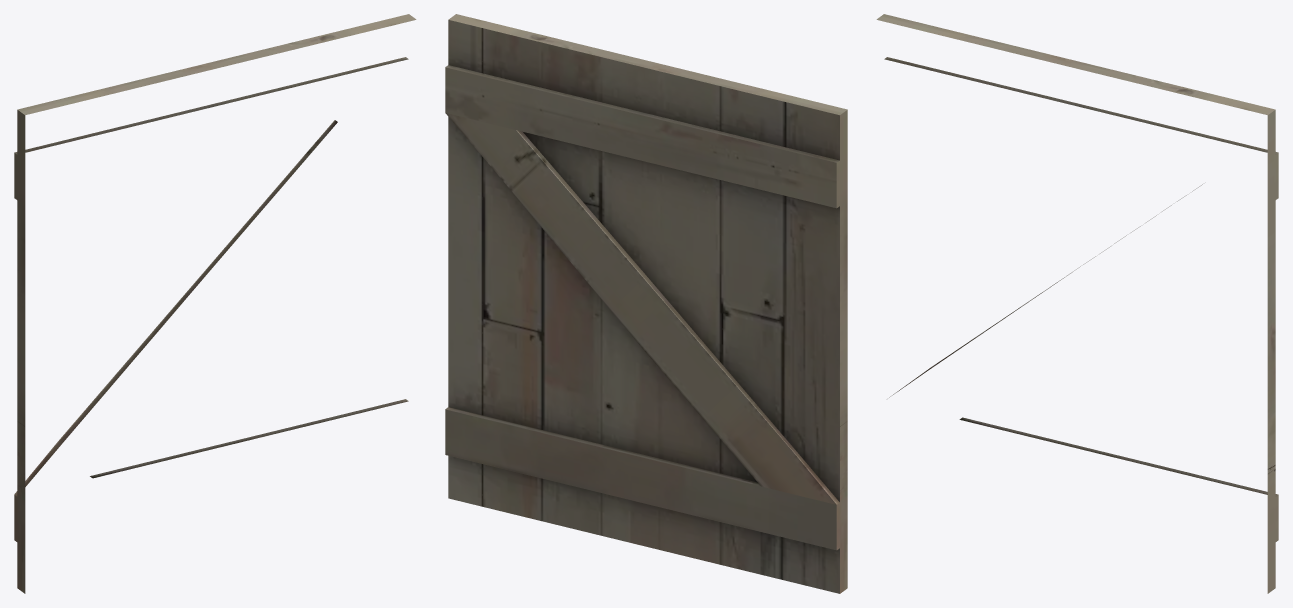
3 renders of one model, left to right at view 1: azimuth 30°, elevation 25°; view 2: azimuth 150°, elevation 25°; view 3: azimuth 330°, elevation 25°, orthographic.
Parts seen in each view (by area): view 1: body0_model0_lod0_mesh0; view 2: body0_model0_lod0_mesh0; view 3: body0_model0_lod0_mesh0.
Part boxes in pixels (box(x1,y1,x2,y2)): body0_model0_lod0_mesh0: box(14, 14, 416, 593); body0_model0_lod0_mesh0: box(445, 14, 847, 593); body0_model0_lod0_mesh0: box(876, 14, 1278, 593).
Bounding box in the file's own units: 72.01 × 84.1 × 3.5.
1 material, 1 textured.
